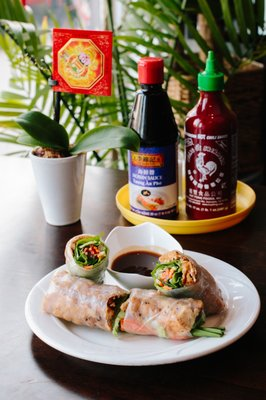pizza: (29, 149, 87, 227)
sushi: (104, 222, 183, 290)
